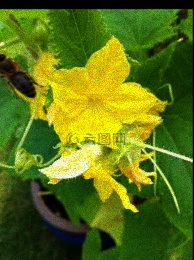cucumber_plant: (38, 33, 166, 239)
